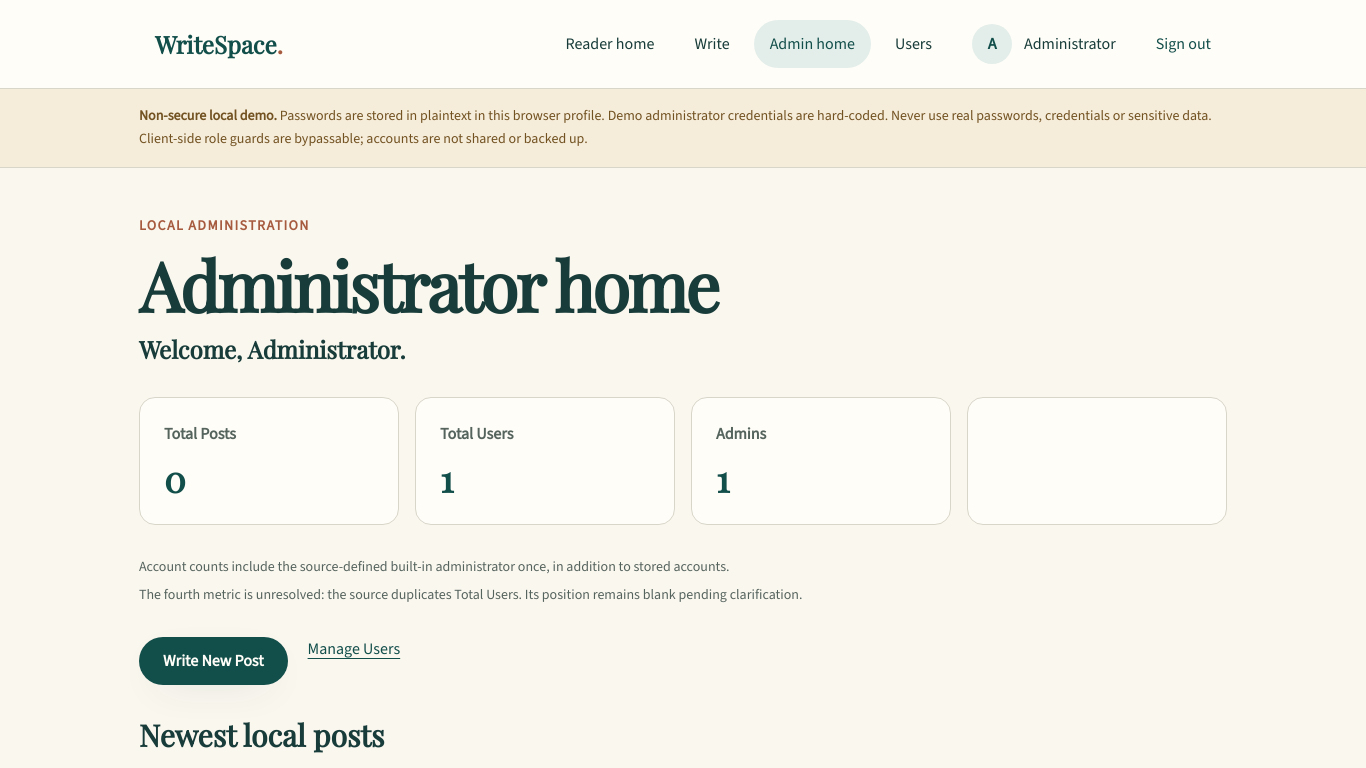
Test: real dashboard and routed controls › activates Write New Post from the exact quick actions to the real page
Click the link "Write New Post" at (213, 661), box [139,637,288,685]
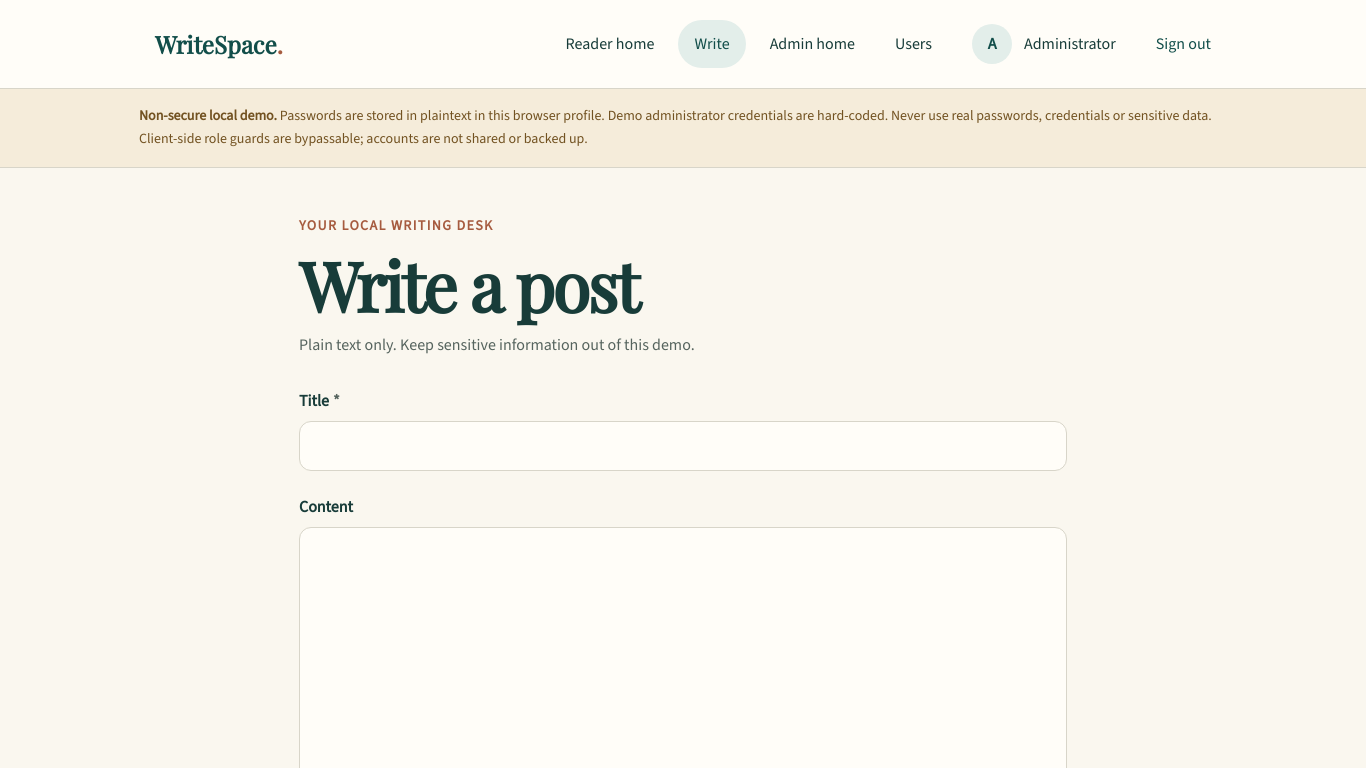
Result: the heading "Write a post" is shown at [299,238,637,330]
